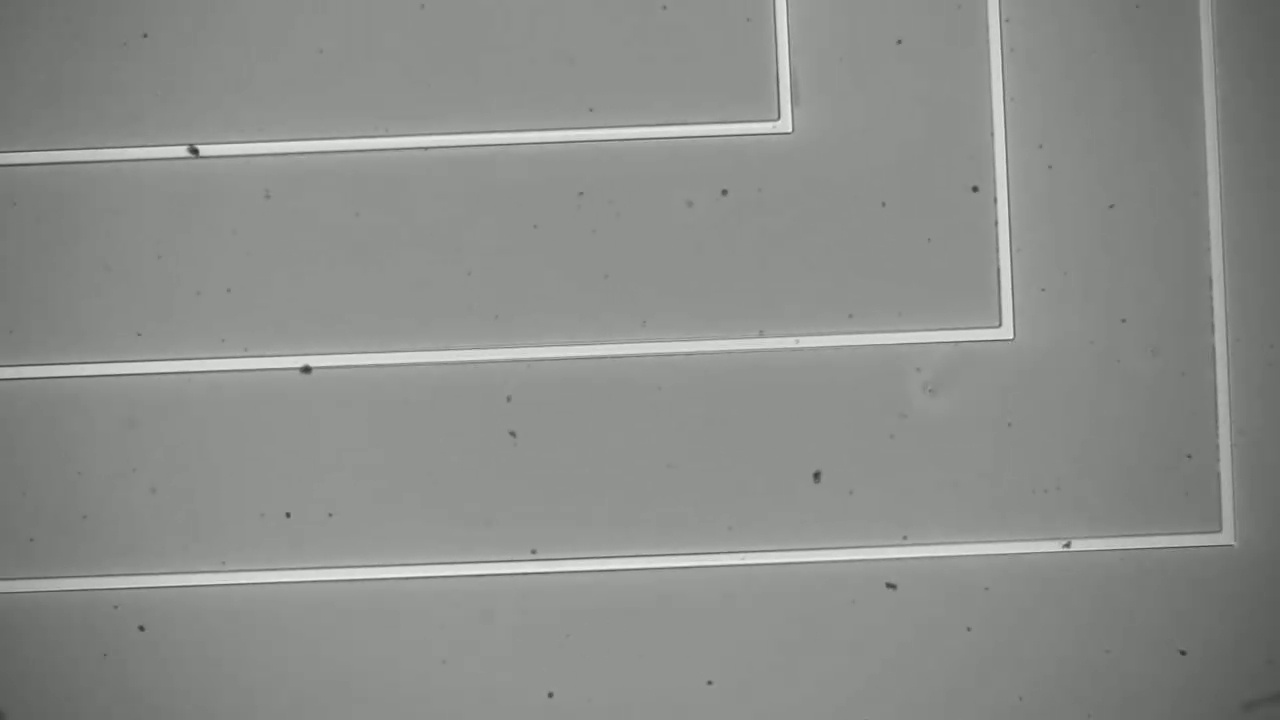stains_enbedded: (178, 132, 206, 169), (294, 348, 317, 383)
